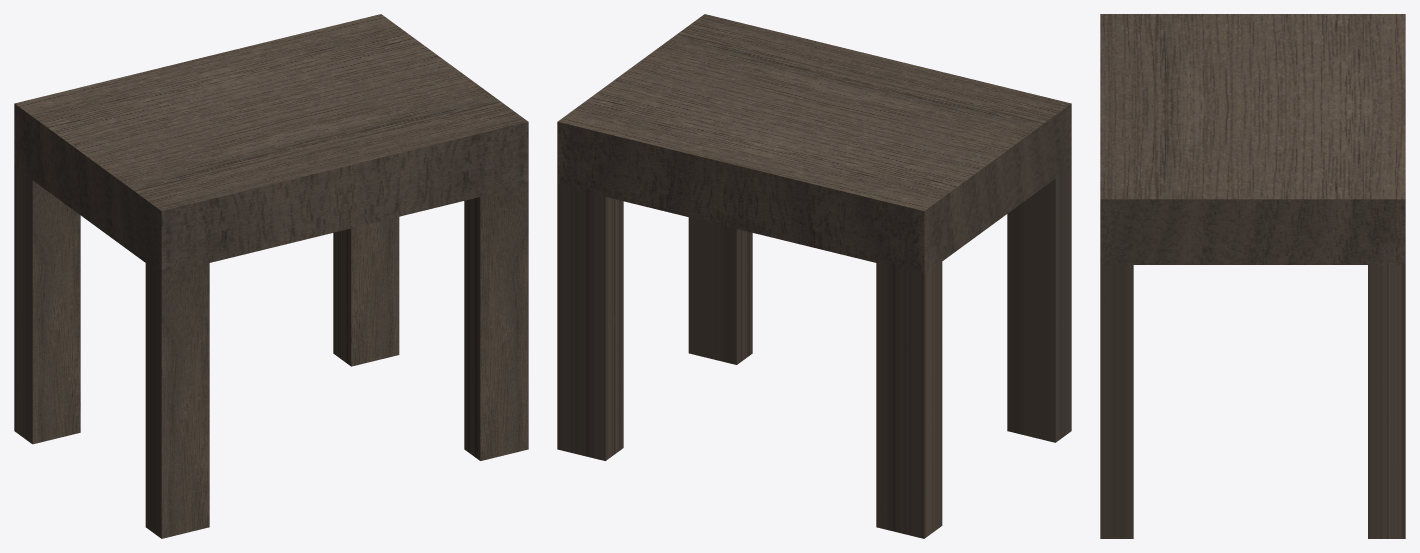
Rendered from Mesa.fbx.
The picture shows the model from 3 angles, left to right: view 1: azimuth 30°, elevation 25°; view 2: azimuth 150°, elevation 25°; view 3: azimuth 270°, elevation 25°; orthographic projection. The views are drawn at different scales.
Parts seen in each view (by area): view 1: Cube.004; view 2: Cube.004; view 3: Cube.004.
Boxes of the visible parts, x1,y1,x2,y2 form: Cube.004: (14,14,528,538); Cube.004: (557,14,1071,538); Cube.004: (1100,14,1405,538).
Bounding box in the file's own units: 391 × 334 × 272.
